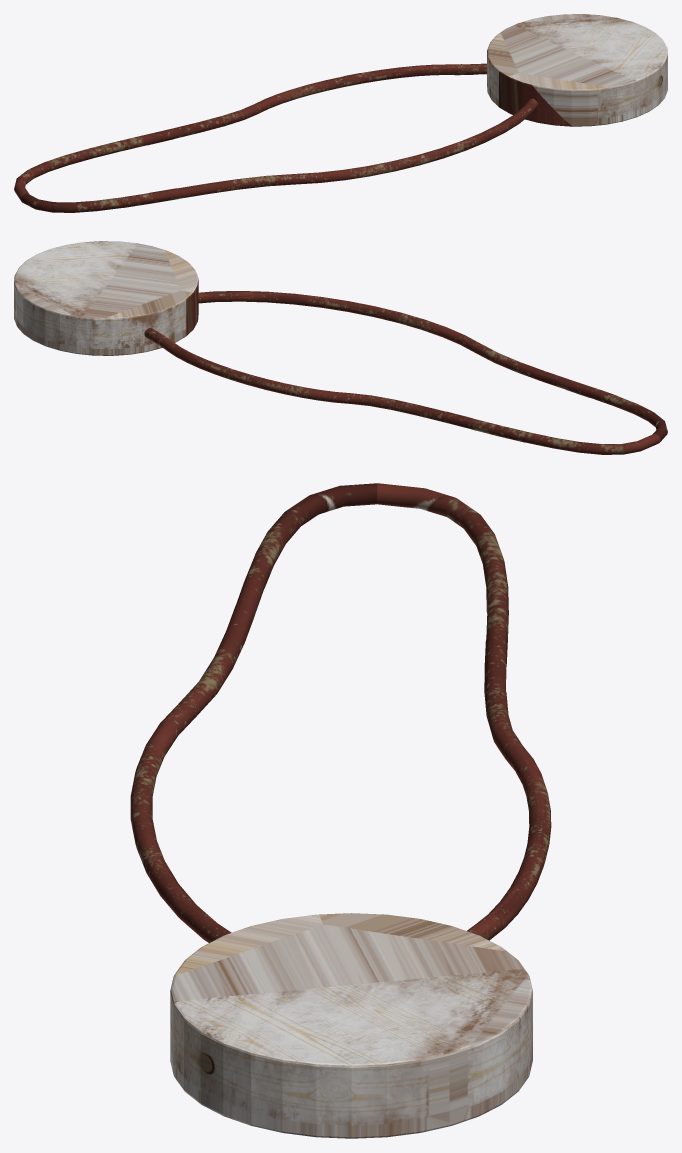
File: talisman_rond.fbx
3 views of the same model, one above another, from view 1: azimuth 30°, elevation 25°; view 2: azimuth 150°, elevation 25°; view 3: azimuth 270°, elevation 25° (orthographic). The views are drawn at different scales.
Parts seen in each view (by area): view 1: talisman rond; view 2: talisman rond; view 3: talisman rond.
Boxes of the visible parts, bbox=[...] form: talisman rond: bbox=[14, 14, 667, 212]; talisman rond: bbox=[14, 241, 667, 454]; talisman rond: bbox=[130, 483, 551, 1138].
Bounding box in the file's own units: 70.18 × 3.97 × 20.34.
